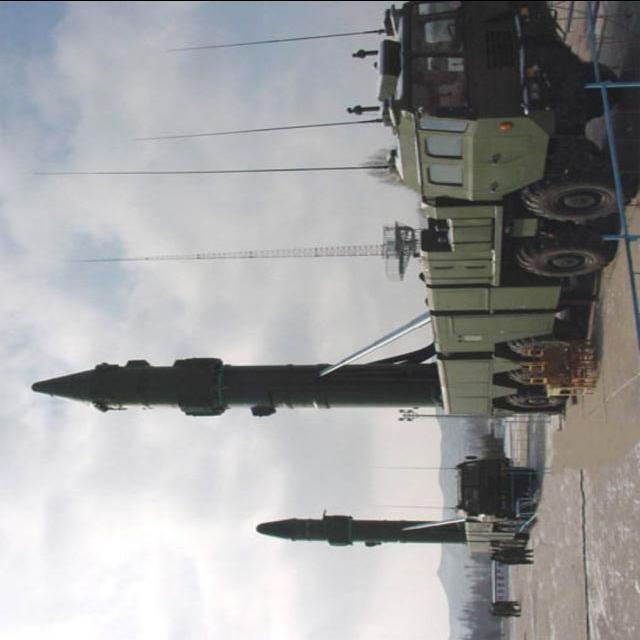missile: (30, 347, 450, 424), (255, 507, 471, 557)
